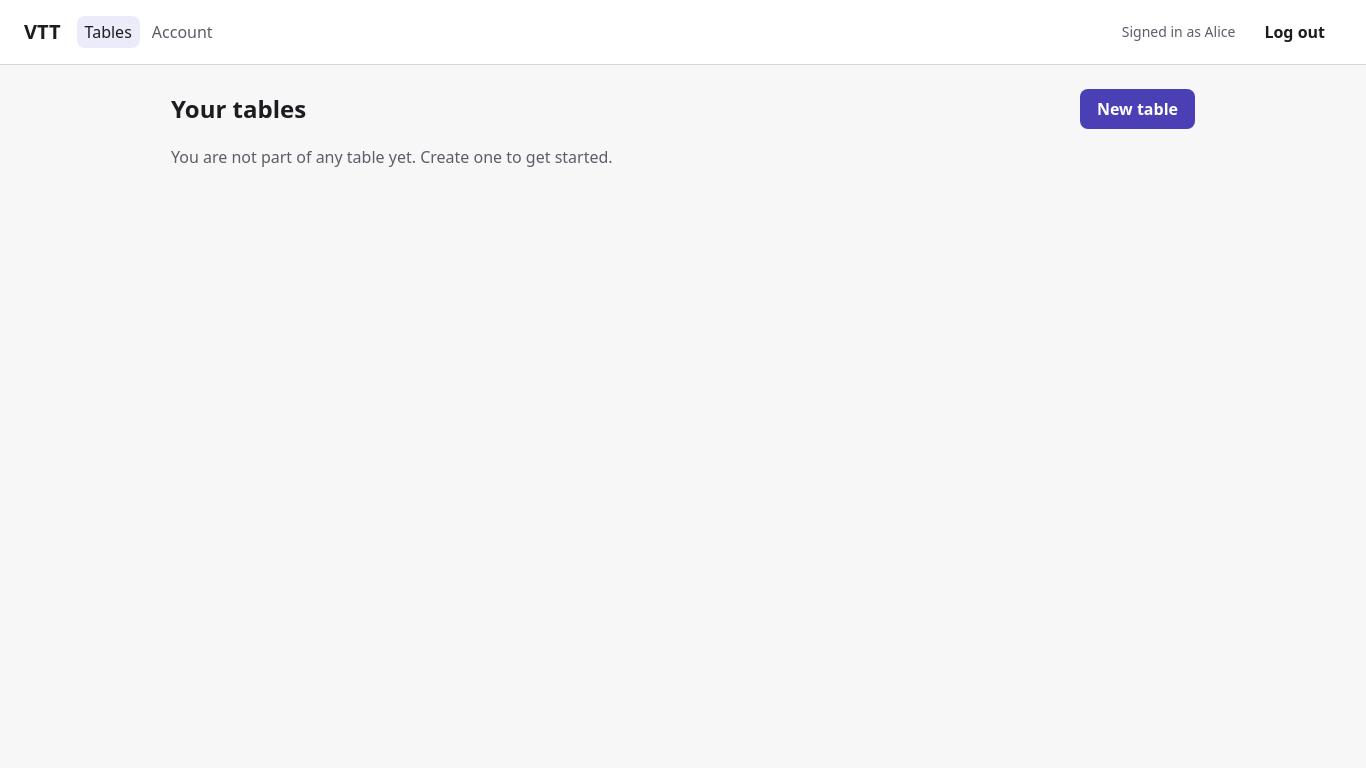
Scenario: tables (FR-TABLE-01) › requires a table name
Step 1. Click the button "New table" → (1137, 109), box [1080,89,1195,129]
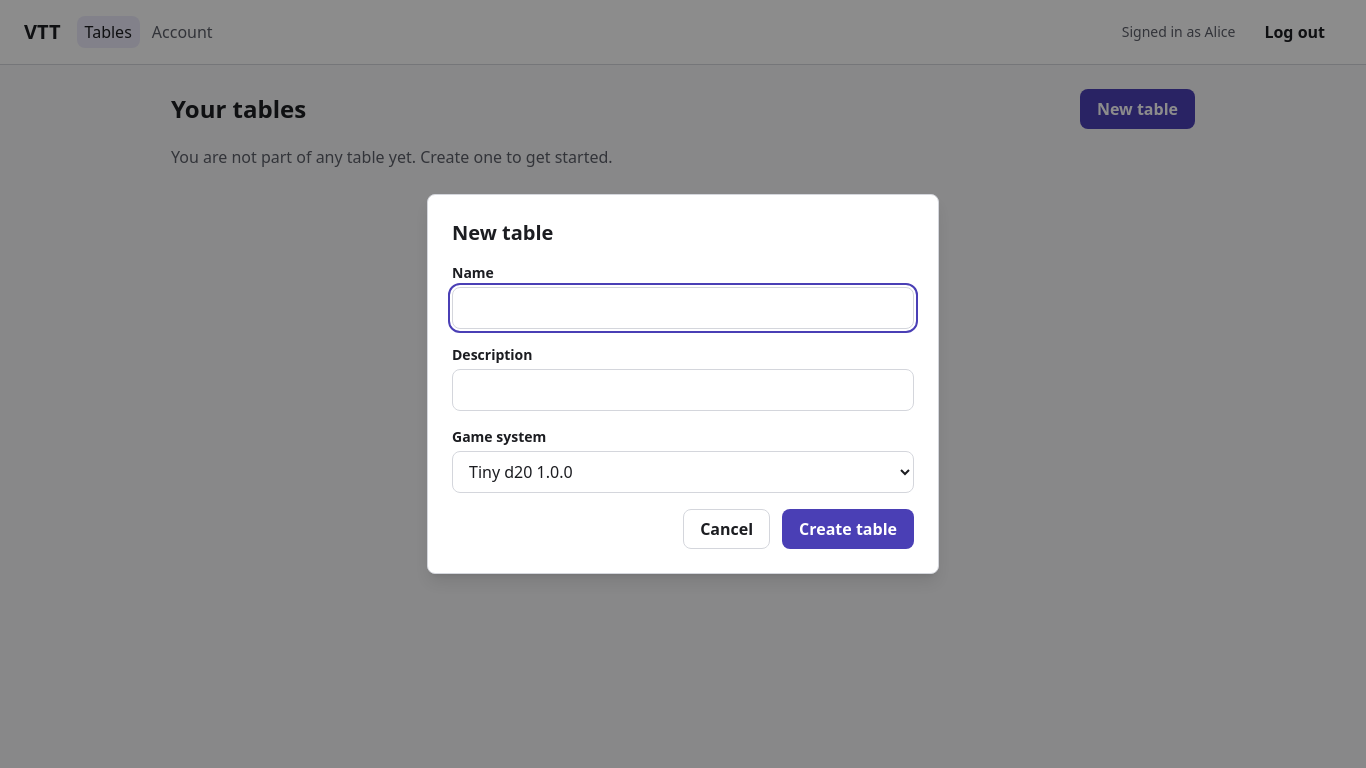
Check: the dropdown labelled "Game system" shows "Tiny d20 1.0.0", box [452,451,914,493]
Step 2. Click the button "Create table" → (848, 529), box [782,509,914,549]
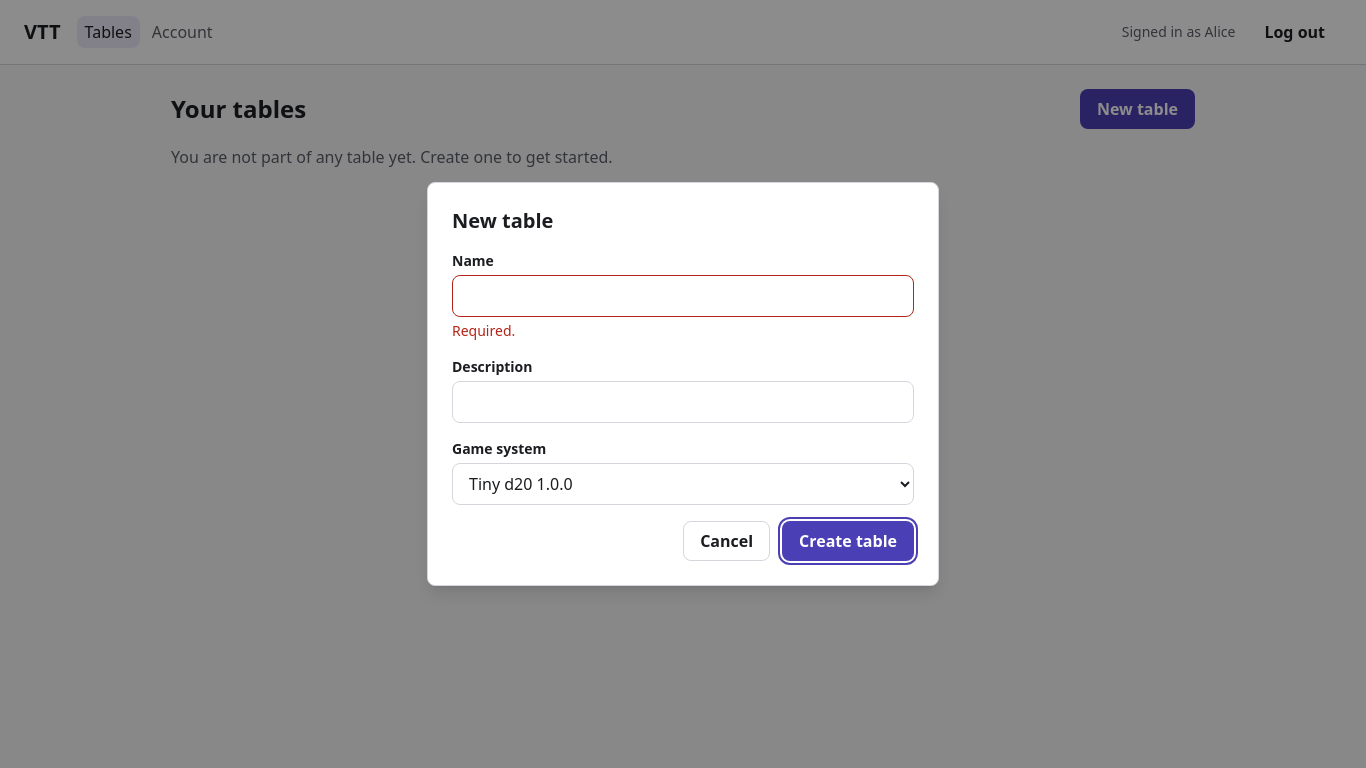
Check: the text "Required." is shown, box [452,321,515,340]
